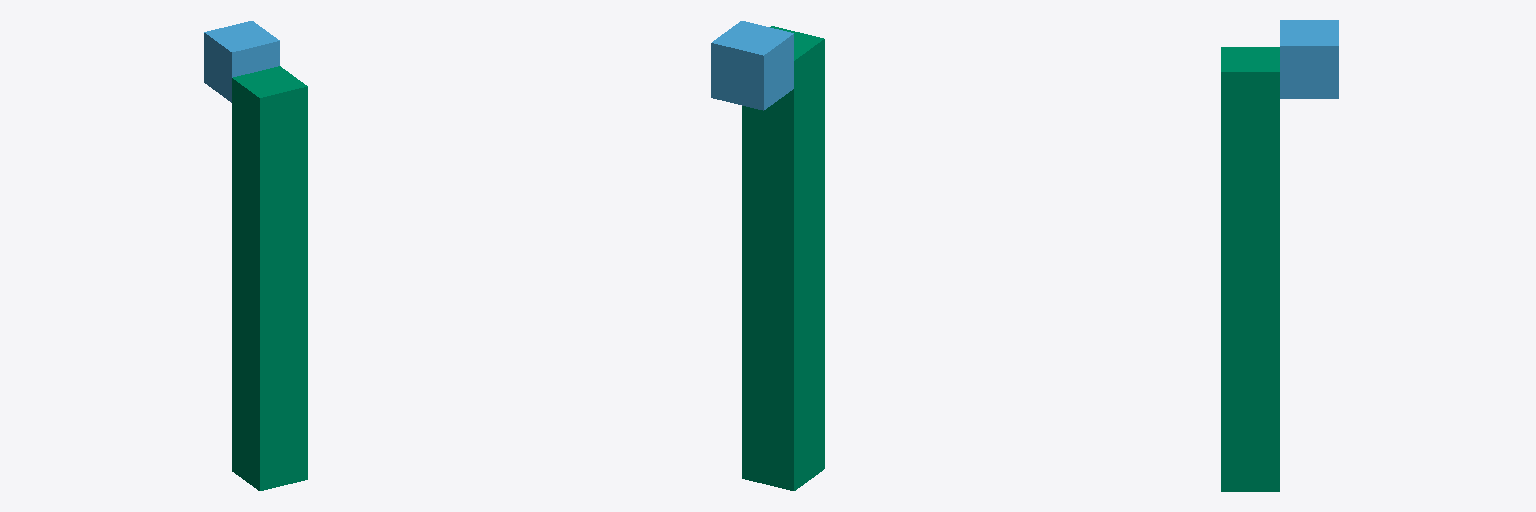
The robot description file, URDF, robot "march":
<?xml version="1.0" ?>
<!-- =================================================================================== -->
<!-- |    This document was autogenerated by xacro from urdf/test_joint_linear.xacro   | -->
<!-- |    EDITING THIS FILE BY HAND IS NOT RECOMMENDED                                 | -->
<!-- =================================================================================== -->
<!-- Revolute-Revolute Manipulator -->
<robot name="march">
  <!-- Switch between airgaiting or standing on the ground-->
  <!--Value set to: 'world' fixes the robot to the world-->
  <!--Value set to: 'base_link' makes the robot stand on the ground-->
  <!--Important note: when changing value make sure rviz fixed frame is set to the same value (moveit.rviz)-->
  <!-- Cube dimensions (width x width x width) of joint base -->
  <!-- rad/s -->
  <gazebo>
    <plugin filename="libgazebo_ros_control.so" name="gazebo_ros_control">
      <robotNamespace>/march</robotNamespace>
      <robotSimType>gazebo_ros_control/DefaultRobotHWSim</robotSimType>
    </plugin>
  </gazebo>
  <plugin filename="libgazebo_ros_control.so" name="gazebo_ros_control">
    <robotNamespace>/march</robotNamespace>
  </plugin>
  <!-- Used for fixing robot to Gazebo 'base_link' -->
  <link name="world"/>
  <joint name="joint_base_fixed_parent_joint" type="fixed">
    <parent link="world"/>
    <child link="joint_base"/>
    <origin rpy="0 0 0" xyz="0 0 0.5"/>
  </joint>
  <joint name="linear_joint" type="revolute">
    <parent link="joint_base"/>
    <child link="bar"/>
    <origin rpy="0 0 0" xyz="0 -0.05 0"/>
    <axis xyz="0 1 0"/>
    <limit effort="10927.0" lower="-0.14835298641951802" upper="0.14835298641951802" velocity="1.0"/>
    <safety_controller k_position="10" k_velocity="10" soft_lower_limit="-0.09599310885968815" soft_upper_limit="0.09599310885968815"/>
  </joint>
  <!-- give colors to some links in gazebo -->
  <gazebo reference="joint_base">
    <material>Gazebo/Blue</material>
  </gazebo>
  <!-- Joint Base-->
  <link name="joint_base">
    <visual>
      <origin rpy="0 0 0" xyz="0 0 0"/>
      <geometry>
        <box size="0.05 0.05 0.05"/>
      </geometry>
    </visual>
    <inertial>
      <origin rpy="0 0 0" xyz="0 0 0"/>
      <mass value="1"/>
      <inertia ixx="0.00041666666666666675" ixy="0.0" ixz="0.0" iyy="0.00041666666666666675" iyz="0.0" izz="0.00041666666666666675"/>
      <!--(joint_base_width*joint_base_width + joint_base_width*joint_base_width)-->
    </inertial>
  </link>
  <!-- Bar-->
  <link name="bar">
    <visual>
      <origin rpy="0 0 0" xyz="0 0 -0.195"/>
      <geometry>
        <box size="0.05 0.05 0.39"/>
      </geometry>
    </visual>
    <inertial>
      <origin rpy="0 0 0" xyz="0 0 -0.195"/>
      <mass value="1.08"/>
      <inertia ixx="0.012883333333333333" ixy="0.0" ixz="0.0" iyy="0.012883333333333333" iyz="0.0" izz="0.00041666666666666675"/>
    </inertial>
  </link>
  <!-- ROS Control plugin for Gazebo -->
  <transmission name="linear_joint_transmission">
    <type>transmission_interface/SimpleTransmission</type>
    <joint name="linear_joint">
      <hardwareInterface>hardware_interface/EffortJointInterface</hardwareInterface>
    </joint>
    <actuator name="linear_joint_motor">
      <hardwareInterface>hardware_interface/EffortJointInterface</hardwareInterface>
      <mechanicalReduction>1</mechanicalReduction>
    </actuator>
  </transmission>
</robot>

--- What the picture shows (computed from the rendered views, not written in the file) ---
Views: 3 orthographic renders of the robot side by side, from view 1: azimuth 30°, elevation 25°; view 2: azimuth 150°, elevation 25°; view 3: azimuth 270°, elevation 25°.
Robot: march — 3 links, 2 joints (1 revolute, 1 fixed); root link world; default pose: every joint at zero.
Links seen in each view (by area): view 1: bar, joint_base; view 2: bar, joint_base; view 3: bar, joint_base.
Boxes of the visible links, x1,y1,x2,y2 form: bar: [232, 66, 307, 490]; joint_base: [204, 21, 279, 102]; bar: [742, 26, 824, 490]; joint_base: [711, 21, 793, 110]; bar: [1221, 47, 1279, 491]; joint_base: [1280, 20, 1338, 98].
Bounding box of the posed robot: 0.05 × 0.1 × 0.415 m (x, y, z).
Geometry: primitives only (box / cylinder / sphere), no mesh files.